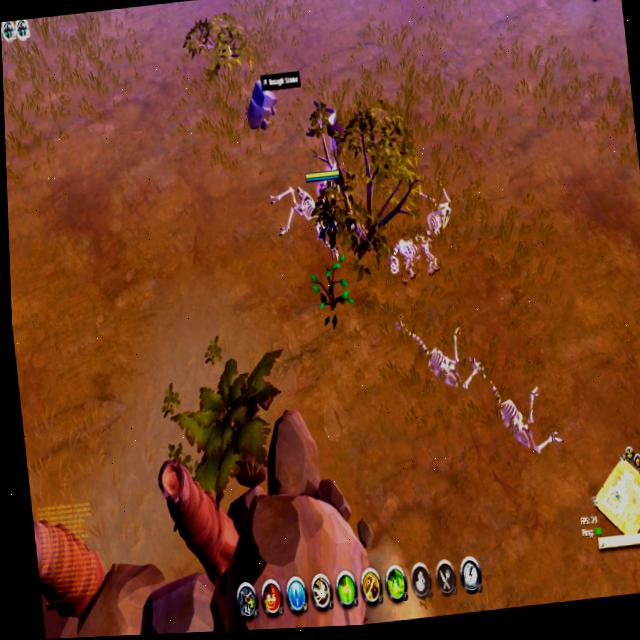mob: (304, 95, 349, 164)
red: (304, 165, 345, 249)
